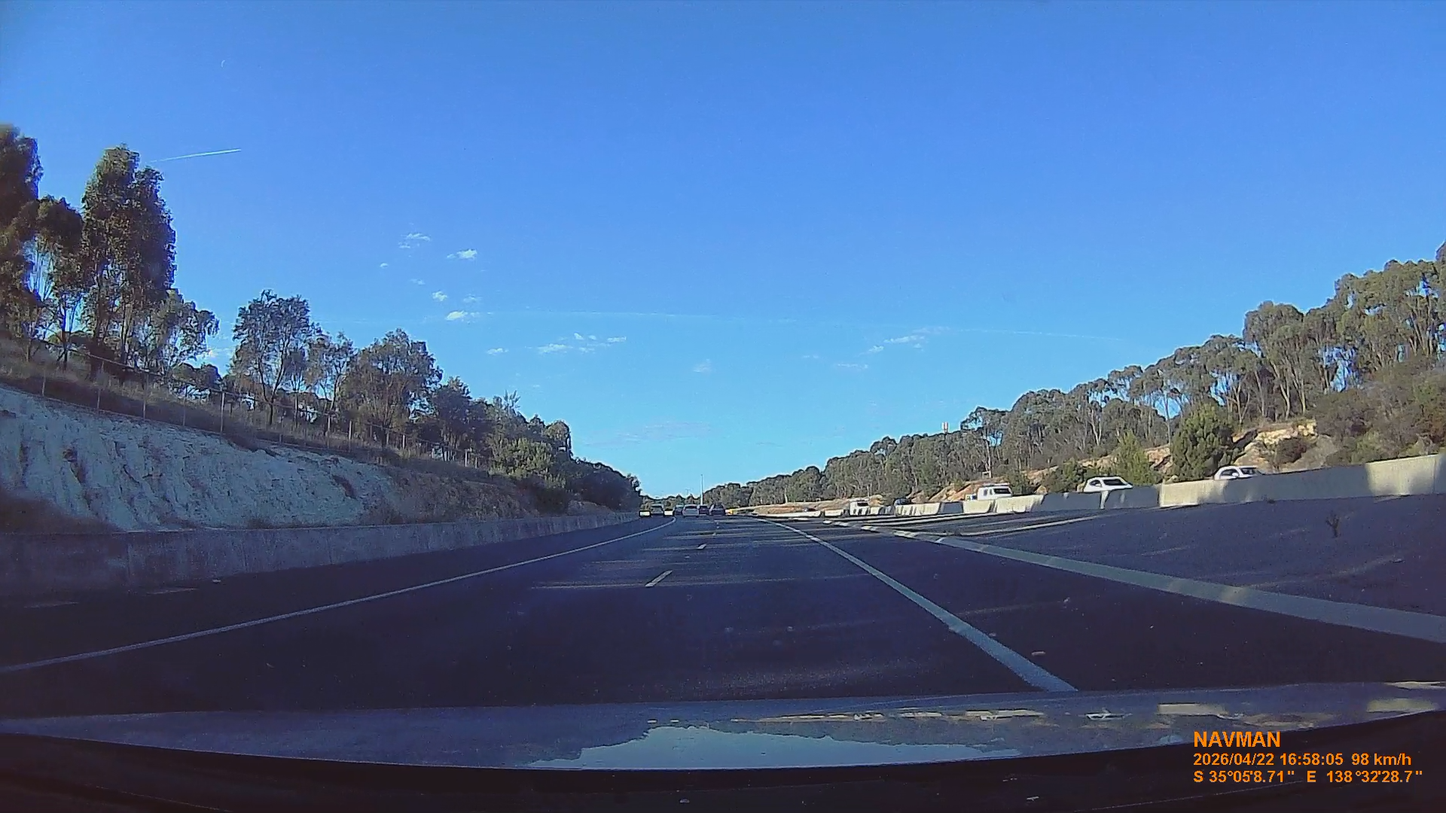road barriers: (0, 513, 630, 599), (759, 455, 1445, 520), (0, 501, 609, 537), (396, 511, 638, 555)
